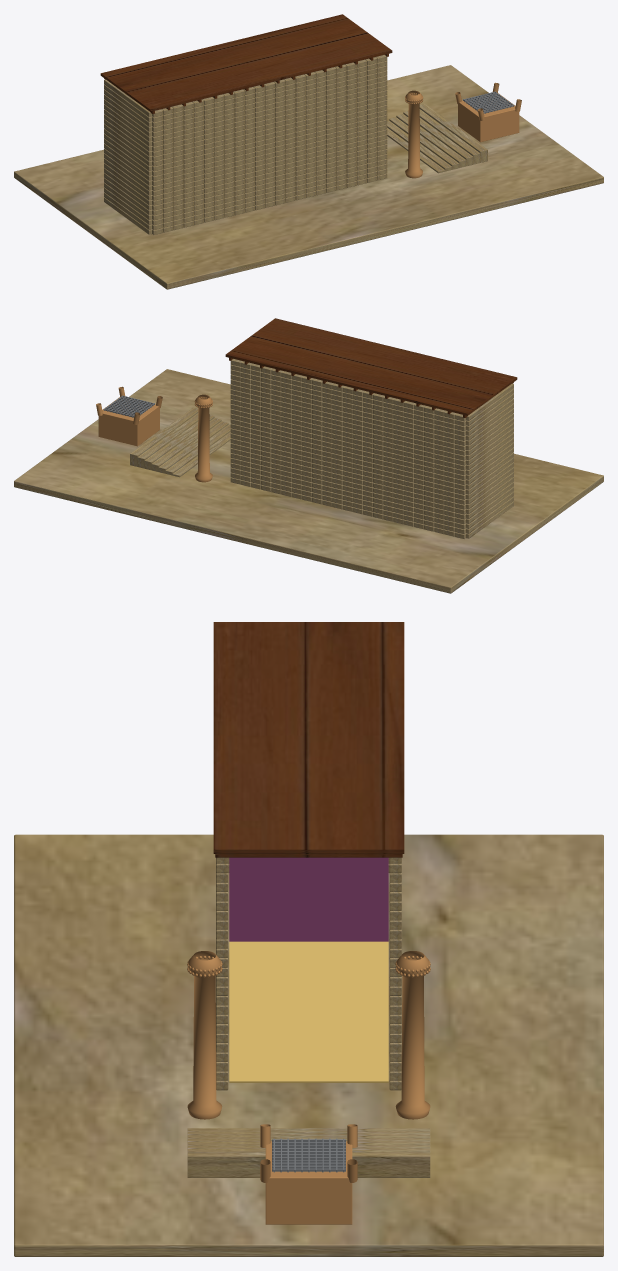
The model's file is templo_salomao.glb.
3 views of the same model, one above another, from view 1: azimuth 30°, elevation 25°; view 2: azimuth 150°, elevation 25°; view 3: azimuth 270°, elevation 25° (orthographic). The views are drawn at different scales.
Parts seen in each view (by area): view 1: Plataforma, Cobertura de cedro, Altar, Coluna do pórtico, Degrau.006, Degrau.005, Degrau.004, Degrau.003, Degrau.002, Degrau.001, Degrau; view 2: Plataforma, Cobertura de cedro, Altar, Coluna do pórtico.001, Degrau.006, Degrau.005, Degrau.004, Degrau.003, Degrau.002, Degrau.001, Degrau; view 3: Plataforma, Cobertura de cedro, Interior dourado, Véu do santuário, Altar, Degrau.006, Coluna do pórtico, Coluna do pórtico.001, Degrau.001, Degrau, Degrau.002.
Part boxes in pixels (x1,y1,x2,y2): Plataforma: (14, 65, 603, 289); Cobertura de cedro: (100, 14, 392, 111); Altar: (458, 93, 519, 142); Coluna do pórtico: (405, 90, 422, 178); Degrau.006: (419, 103, 487, 162); Degrau.005: (419, 109, 480, 164); Degrau.004: (403, 111, 473, 165); Degrau.003: (396, 114, 466, 167); Degrau.002: (389, 117, 459, 169); Degrau.001: (387, 120, 452, 171); Degrau: (387, 128, 445, 173); Plataforma: (14, 369, 603, 593); Cobertura de cedro: (225, 318, 517, 415); Altar: (98, 397, 159, 446); Coluna do pórtico.001: (195, 394, 212, 482); Degrau.006: (130, 407, 198, 466); Degrau.005: (137, 413, 198, 468); Degrau.004: (144, 415, 214, 469); Degrau.003: (151, 418, 221, 471); Degrau.002: (158, 421, 228, 473); Degrau.001: (165, 424, 230, 475); Degrau: (172, 432, 230, 477); Plataforma: (14, 834, 603, 1256); Cobertura de cedro: (213, 622, 404, 853); Interior dourado: (229, 941, 388, 1082); Véu do santuário: (229, 857, 388, 941); Altar: (265, 1141, 352, 1224); Degrau.006: (187, 1149, 430, 1177); Coluna do pórtico: (187, 951, 222, 1119); Coluna do pórtico.001: (395, 951, 430, 1119); Degrau.001: (187, 1131, 430, 1135); Degrau: (187, 1128, 430, 1131); Degrau.002: (187, 1135, 430, 1138).
Bounding box in the file's own units: 56 × 16.4 × 34.
Materials: 6 (2 with a texture image).
